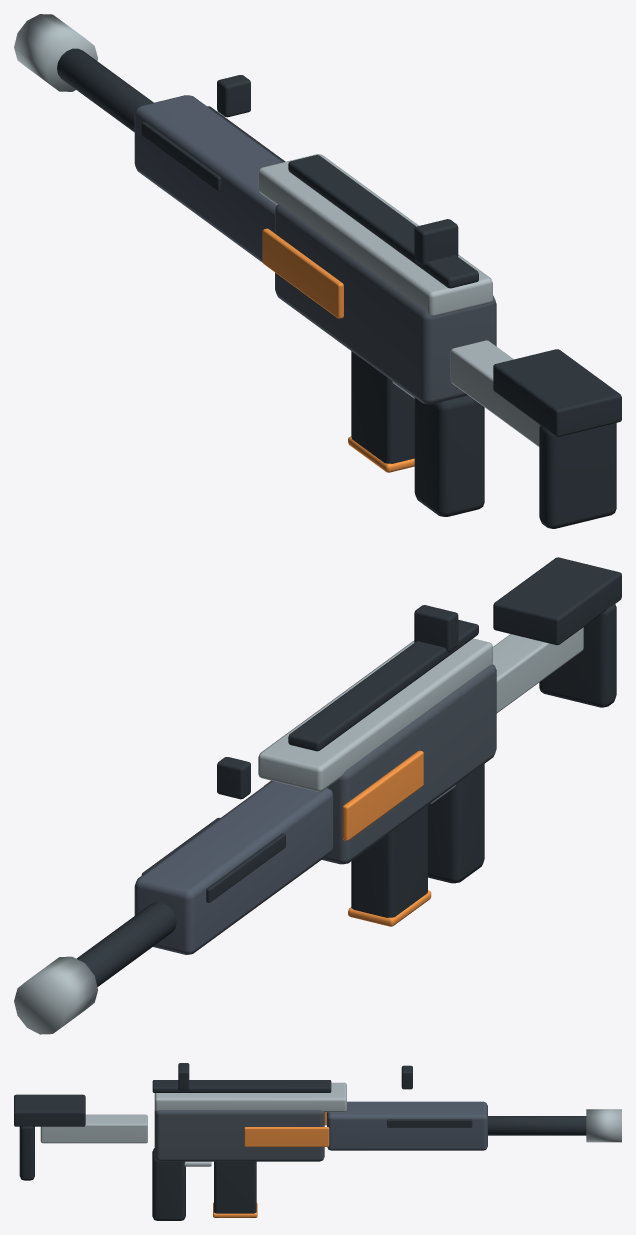
The model's file is guardian.glb.
The picture shows the model from 3 angles, top to bottom: view 1: azimuth 30°, elevation 25°; view 2: azimuth 150°, elevation 25°; view 3: azimuth 270°, elevation 25°; orthographic projection. The views are drawn at different scales.
Visible parts, largest first — view 1: Guardian receiver, Barrel shroud, Angular top shell, Pistol grip, Stock cheek rest, Stock butt, Sighting rail, Short magazine, Skeleton stock beam, Precision barrel, Muzzle brake, Inset gold side plate (+3 smaller); view 2: Barrel shroud, Guardian receiver, Angular top shell, Stock cheek rest, Short magazine, Sighting rail, Pistol grip, Muzzle brake, Stock butt, Skeleton stock beam, Precision barrel, Inset gold side plate (+4 smaller); view 3: Guardian receiver, Barrel shroud, Angular top shell, Skeleton stock beam, Stock cheek rest, Short magazine, Sighting rail, Pistol grip, Precision barrel, Inset gold side plate.001, Muzzle brake, Stock butt (+4 smaller).
Boxes of the visible parts, box(x1,y1,x2,y2) form: Guardian receiver: box(275, 204, 496, 404); Barrel shroud: box(134, 95, 282, 262); Angular top shell: box(258, 154, 492, 316); Pistol grip: box(414, 395, 484, 516); Stock cheek rest: box(493, 349, 621, 436); Stock butt: box(539, 423, 616, 528); Sighting rail: box(288, 155, 478, 288); Short magazine: box(351, 351, 414, 463); Skeleton stock beam: box(450, 340, 540, 446); Precision barrel: box(57, 48, 153, 132); Muzzle brake: box(14, 14, 97, 91); Inset gold side plate: box(262, 228, 343, 318); Barrel shroud: box(134, 780, 333, 954); Guardian receiver: box(322, 664, 496, 864); Angular top shell: box(258, 638, 492, 791); Stock cheek rest: box(493, 557, 621, 645); Short magazine: box(351, 805, 427, 917); Sighting rail: box(288, 619, 478, 751); Pistol grip: box(428, 764, 484, 883); Muzzle brake: box(14, 956, 97, 1034); Stock butt: box(539, 604, 616, 707); Skeleton stock beam: box(492, 627, 583, 713); Precision barrel: box(76, 902, 176, 986); Inset gold side plate: box(342, 750, 423, 840); Guardian receiver: box(154, 1110, 324, 1161); Barrel shroud: box(327, 1101, 487, 1150); Angular top shell: box(154, 1082, 346, 1112); Skeleton stock beam: box(40, 1114, 147, 1143); Stock cheek rest: box(14, 1094, 85, 1126); Short magazine: box(214, 1161, 256, 1213); Sighting rail: box(152, 1080, 331, 1092); Pistol grip: box(152, 1148, 185, 1220); Precision barrel: box(488, 1116, 586, 1135); Inset gold side plate.001: box(244, 1127, 329, 1146); Muzzle brake: box(586, 1109, 621, 1142); Stock butt: box(19, 1126, 34, 1180).
Size of the model in its own units: 0.123 by 0.3685 by 1.36.
